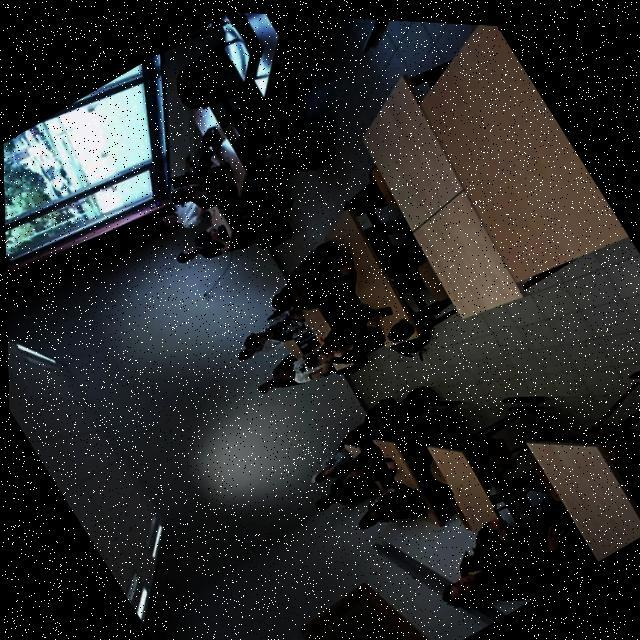daydreaming: (443, 493, 605, 638)
phone_use: (270, 240, 374, 325), (172, 126, 244, 233), (322, 425, 394, 502)
